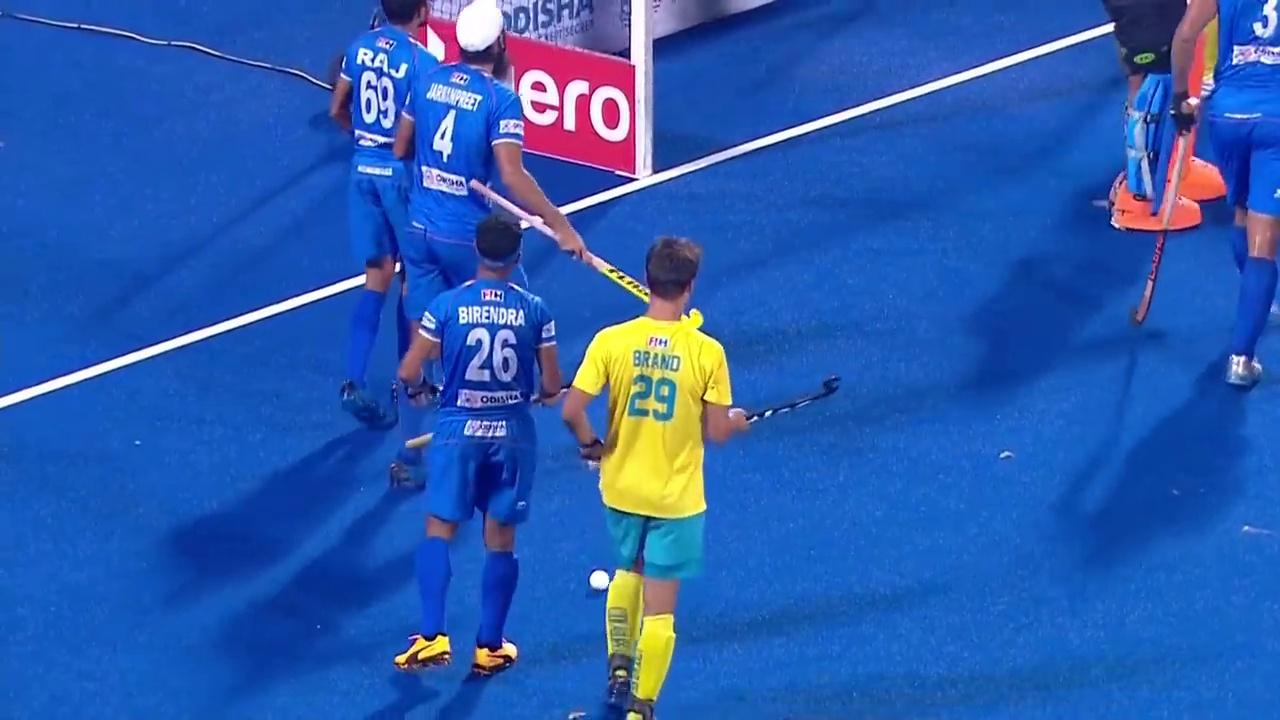ball: (574, 555, 625, 600)
